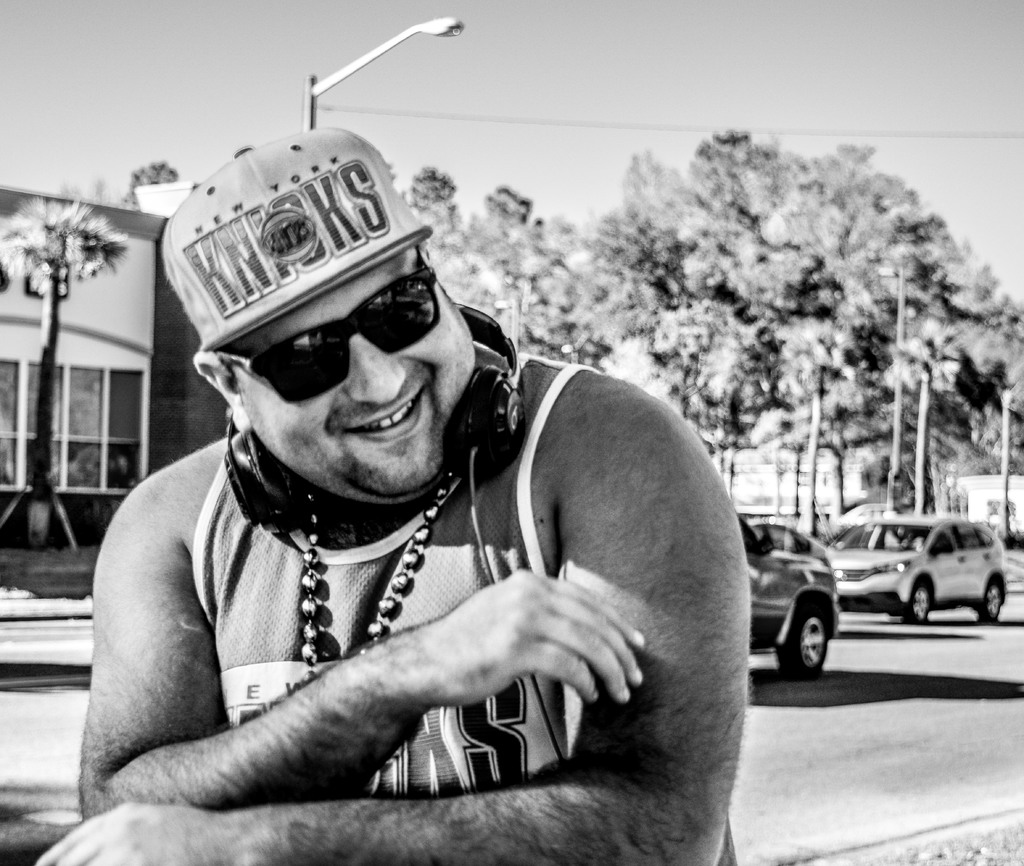Car: (826, 511, 1007, 623), (743, 521, 836, 682)
